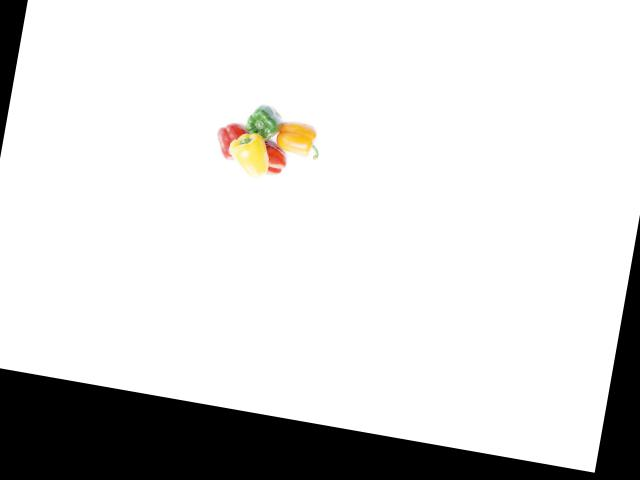bell_pepper: (235, 96, 286, 151)
